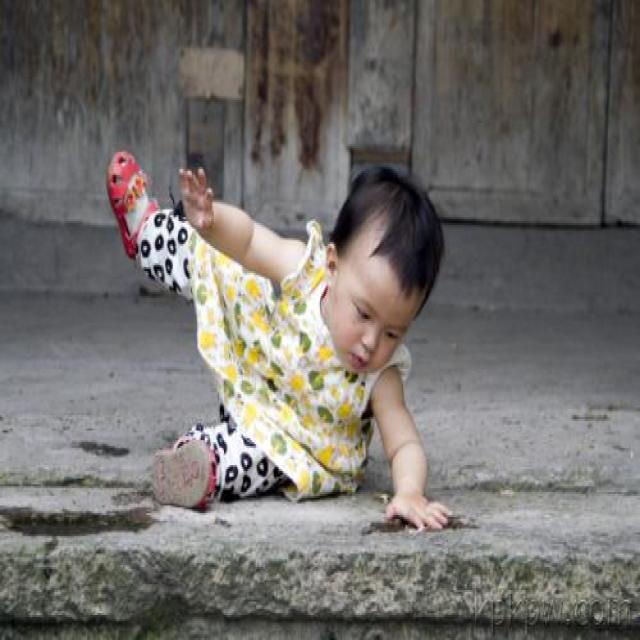fall: (96, 156, 462, 532)
